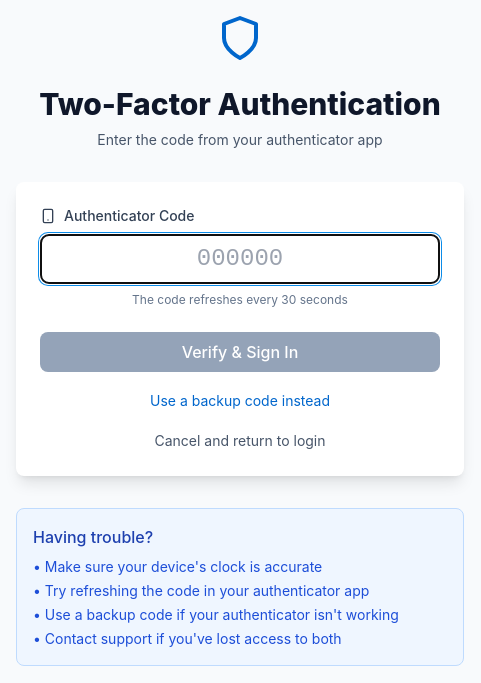
Test case: TwoFactorVerification › TOTP Code Input › accepts only numeric input and limits to 6 digits
The image size is (481, 683).
Type mixed characters, should only accept numbers
Type "abc123def456" into the field with placeholder "000000" at (240, 259), box [40, 234, 440, 284]
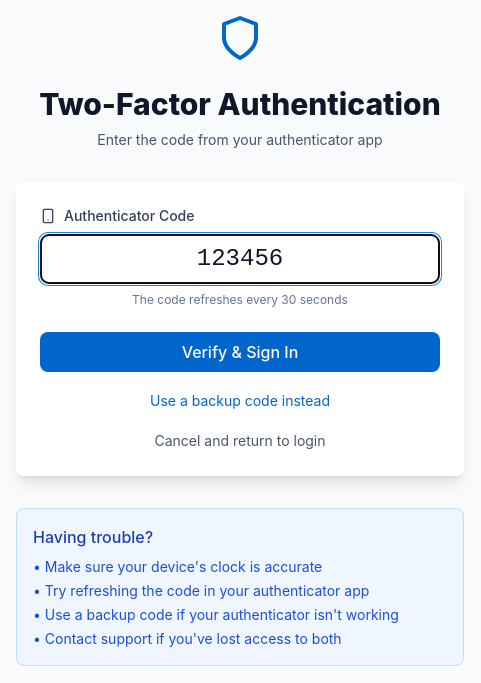
Expected: the field with placeholder "000000" holds "123456", [40, 234, 440, 284]
